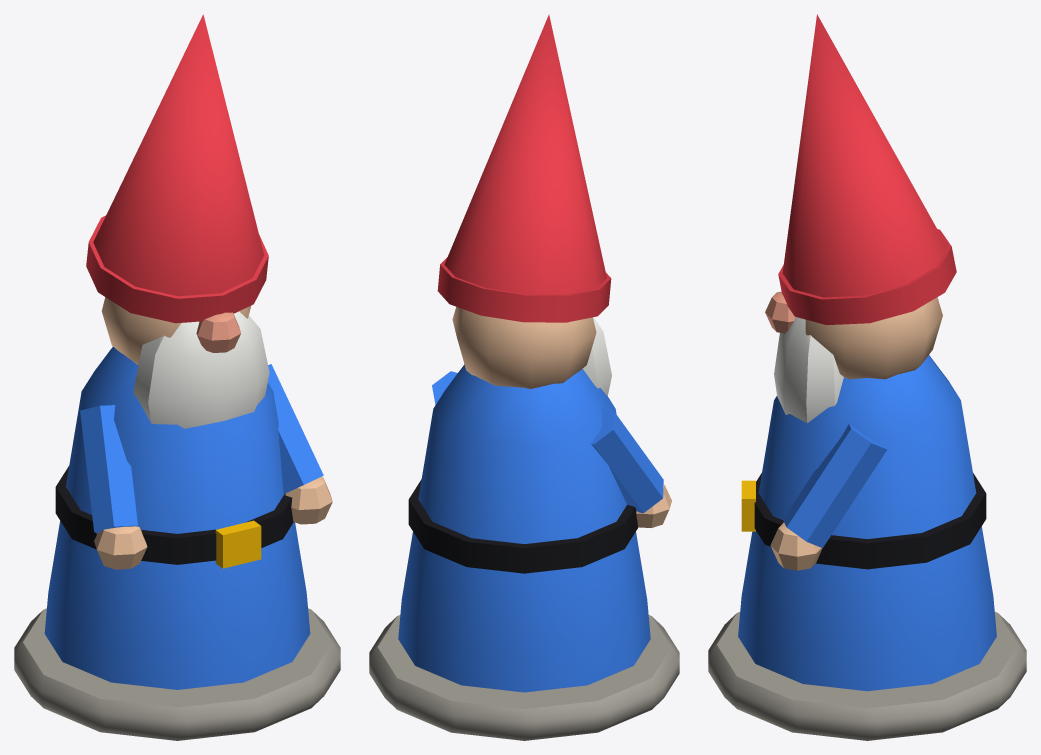
File: garden_gnome.glb
The picture shows the model from 3 angles, left to right: view 1: azimuth 30°, elevation 25°; view 2: azimuth 150°, elevation 25°; view 3: azimuth 270°, elevation 25°; orthographic projection. The views are drawn at different scales.
Visible parts, largest first — view 1: body; view 2: body; view 3: body.
Boxes of the visible parts, left/top/right/bottom form: body: left=14, top=14, right=340, bottom=740; body: left=369, top=14, right=679, bottom=740; body: left=708, top=14, right=1026, bottom=740.
Size of the model in its own units: 17.69 by 40.7 by 17.69.
